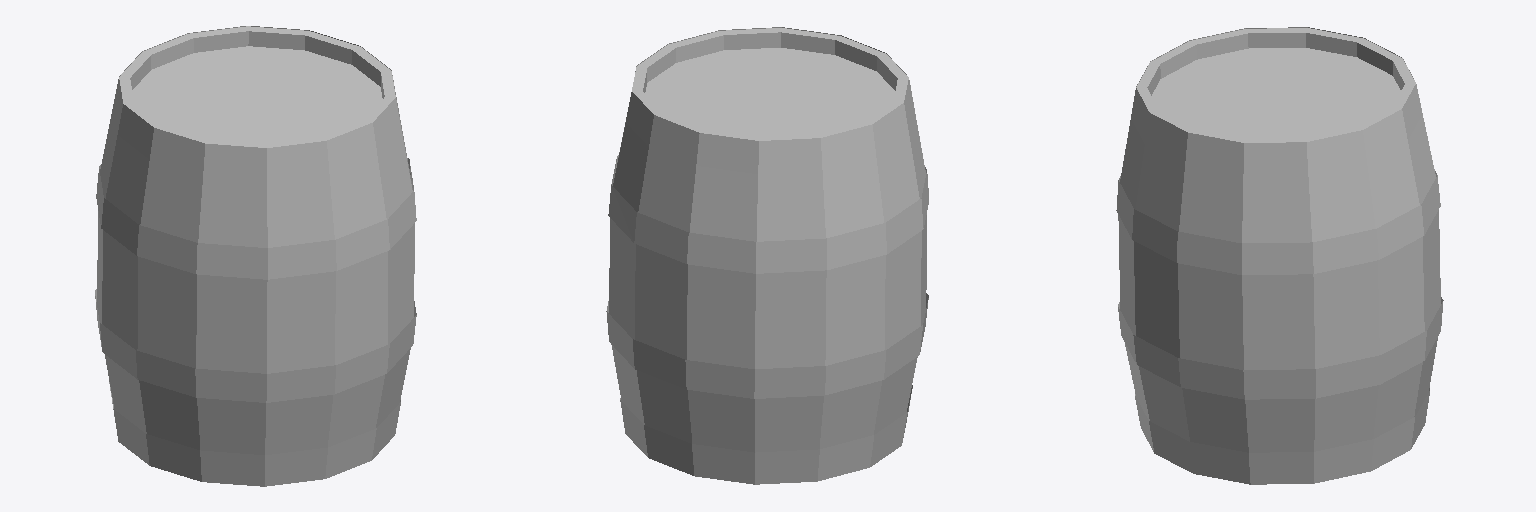
File: barrel.obj
3 renders of one model, left to right at view 1: azimuth 30°, elevation 25°; view 2: azimuth 150°, elevation 25°; view 3: azimuth 270°, elevation 25°, orthographic.
Parts seen in each view (by area): view 1: BARR; view 2: BARR; view 3: BARR.
Part boxes in pixels (left/top/right/bottom): BARR: left=95, top=26, right=416, bottom=486; BARR: left=606, top=27, right=928, bottom=484; BARR: left=1116, top=27, right=1443, bottom=484.
Size of the model in its own units: 1.85 by 2.22 by 1.91.